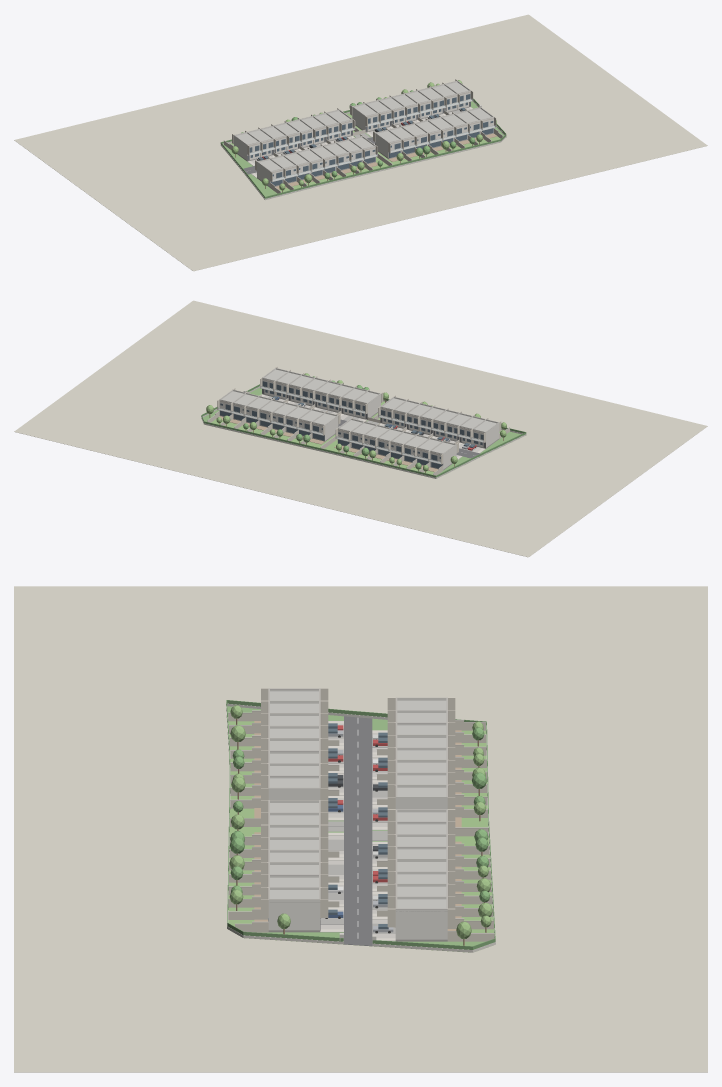
3 views of the same model, one above another, from view 1: azimuth 30°, elevation 25°; view 2: azimuth 150°, elevation 25°; view 3: azimuth 270°, elevation 25° (orthographic). The views are drawn at different scales.
Parts seen in each view (by area): view 1: zemin__zemin, villa__duvar, villa__cakil, villa__cam, villa__harpusta, villa__duvar2, villa__perde, villa__korkuluk, peyzaj__perde, peyzaj__cit, peyzaj__cim, peyzaj__bahce_duv (+3 smaller); view 2: zemin__zemin, villa__duvar, villa__cakil, villa__cam, villa__harpusta, villa__duvar2, villa__perde, villa__korkuluk, peyzaj__cit, peyzaj__perde, peyzaj__bahce_duv, peyzaj__cim (+4 smaller); view 3: zemin__zemin, villa__cakil, villa__duvar, peyzaj__perde, villa__perde, yol__asfalt, villa__harpusta, peyzaj__cim, agac__yaprak2, peyzaj__cit, agac__yaprak, peyzaj__park (+7 smaller).
Part boxes in pixels (box(x1,y1,x2,y2)): zemin__zemin: box(14, 14, 707, 271); villa__duvar: box(234, 81, 495, 186); villa__cakil: box(236, 82, 491, 170); villa__cam: box(248, 94, 493, 185); villa__harpusta: box(234, 80, 493, 171); villa__duvar2: box(249, 91, 493, 183); villa__perde: box(232, 79, 496, 181); villa__korkuluk: box(249, 99, 495, 181); peyzaj__perde: box(224, 111, 502, 193); peyzaj__cit: box(220, 98, 506, 198); peyzaj__cim: box(229, 113, 506, 192); peyzaj__bahce_duv: box(220, 101, 506, 200); zemin__zemin: box(14, 300, 707, 557); villa__duvar: box(218, 368, 499, 469); villa__cakil: box(222, 369, 496, 453); villa__cam: box(220, 381, 484, 468); villa__harpusta: box(219, 368, 498, 453); villa__duvar2: box(220, 379, 483, 466); villa__perde: box(217, 366, 501, 464); villa__korkuluk: box(218, 386, 483, 463); peyzaj__cit: box(201, 384, 526, 477); peyzaj__perde: box(207, 398, 509, 475); peyzaj__bahce_duv: box(201, 386, 526, 478); peyzaj__cim: box(211, 401, 501, 474); zemin__zemin: box(14, 586, 707, 1072); villa__cakil: box(270, 691, 447, 911); villa__duvar: box(268, 689, 447, 939); peyzaj__perde: box(228, 711, 494, 941); villa__perde: box(261, 688, 455, 927); yol__asfalt: box(344, 716, 372, 946); villa__harpusta: box(268, 688, 447, 909); peyzaj__cim: box(228, 721, 493, 952); agac__yaprak2: box(229, 705, 492, 938); peyzaj__cit: box(226, 700, 495, 949); agac__yaprak: box(229, 727, 490, 902); peyzaj__park: box(320, 728, 395, 933).
Size of the model in its own units: 244 by 7.75 by 147.
